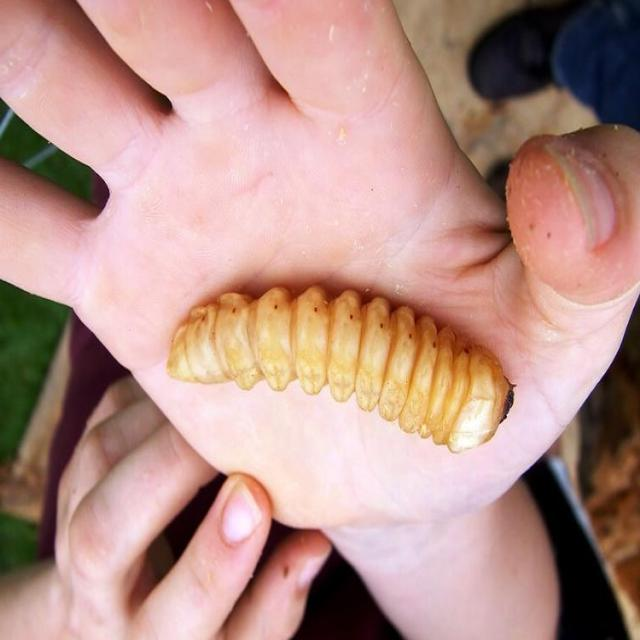grub: (158, 277, 511, 468)
